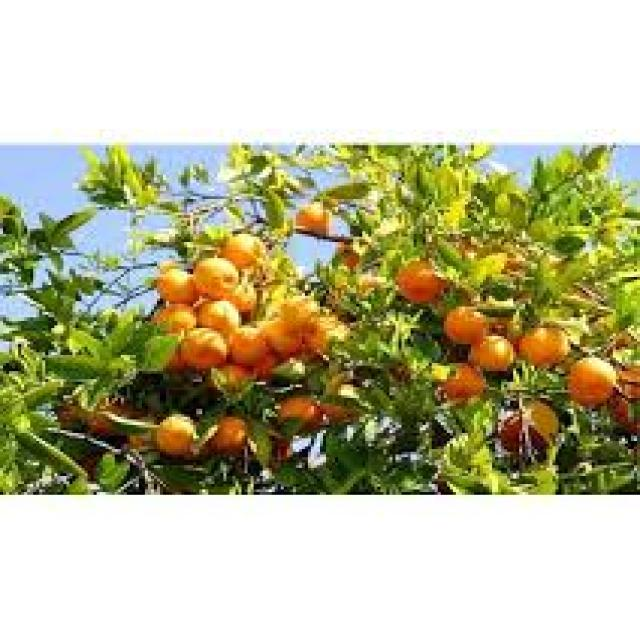orange: (184, 244, 252, 307)
